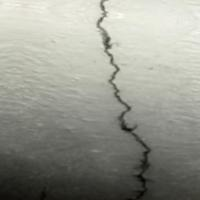crack: (78, 0, 191, 186)
